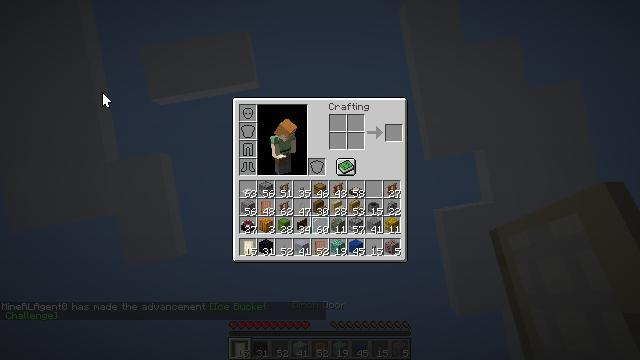cursor: (102, 92, 112, 108)
